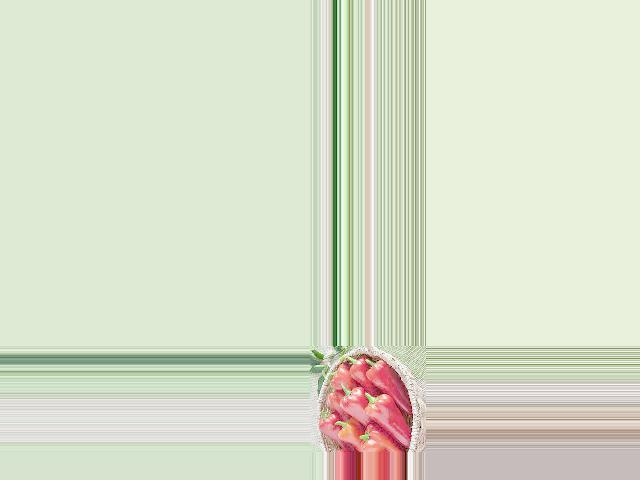bell_pepper: (345, 353, 369, 383)
